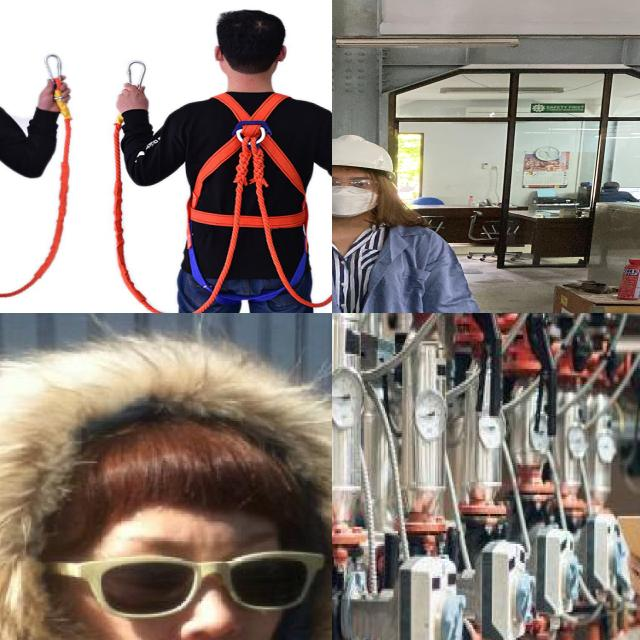Harness: (194, 84, 314, 306)
face_mask: (332, 174, 382, 218)
face_nomask: (81, 539, 301, 640)
glasses: (42, 528, 324, 622), (332, 176, 382, 194)
hand_noglove: (621, 554, 640, 612)
head_helmet: (332, 133, 394, 175)
head_nohelmet: (41, 386, 316, 536)
person: (0, 326, 332, 640), (332, 131, 482, 313)
